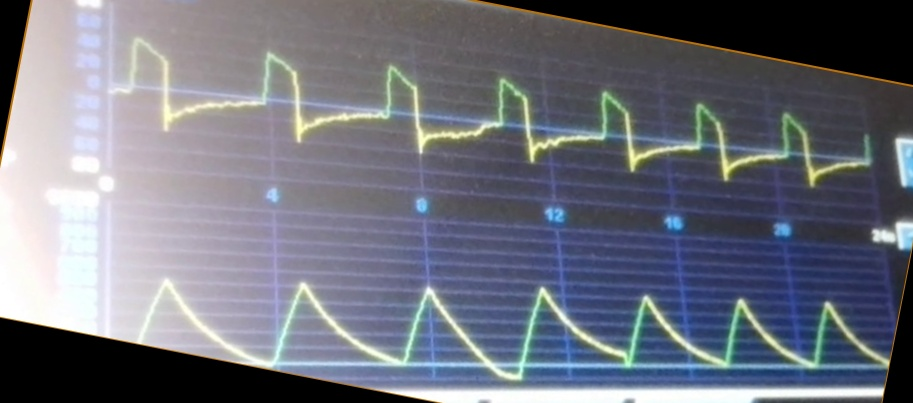Accumulation Flow: (113, 31, 874, 188)
Volume: (135, 266, 890, 385)
